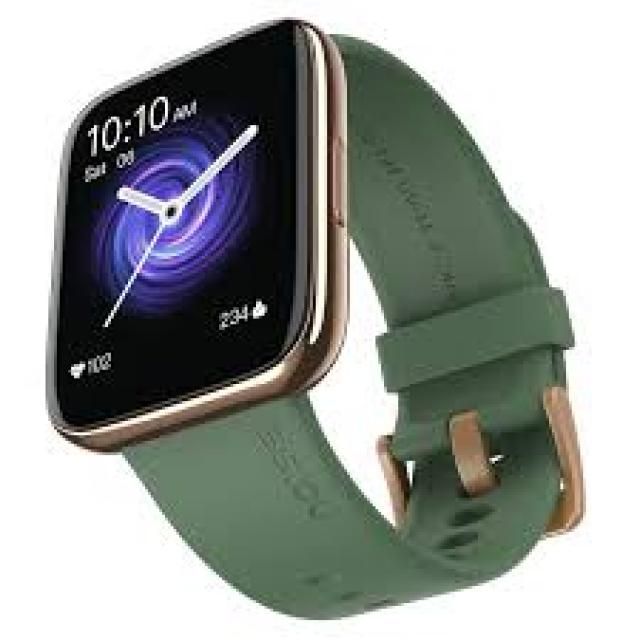objects: (42, 11, 588, 618)
